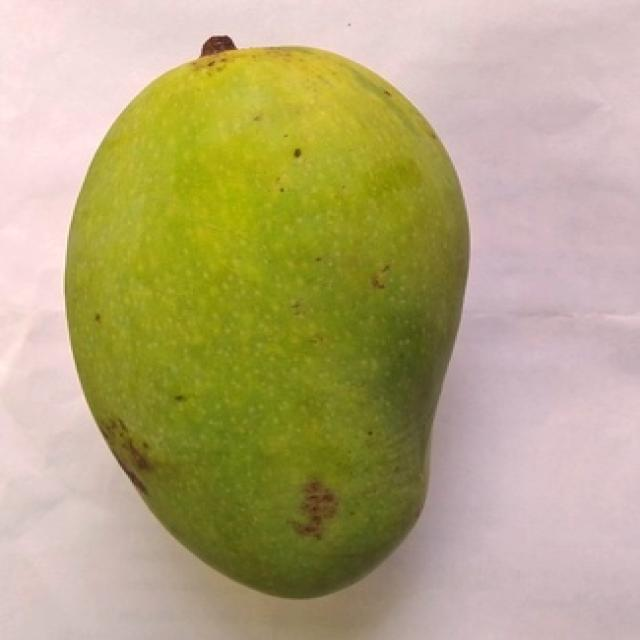Mango: (67, 42, 465, 595)
